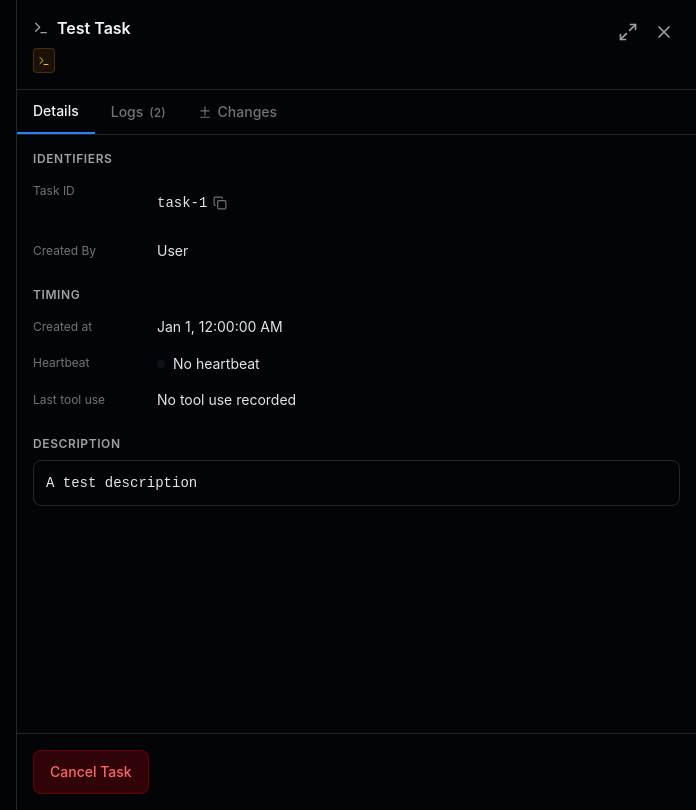
it: TaskDetailDrawer › log text filter removes non-matching lines from the DOM
Click the button "Logs(2)": (138, 112) [95, 90, 182, 134]
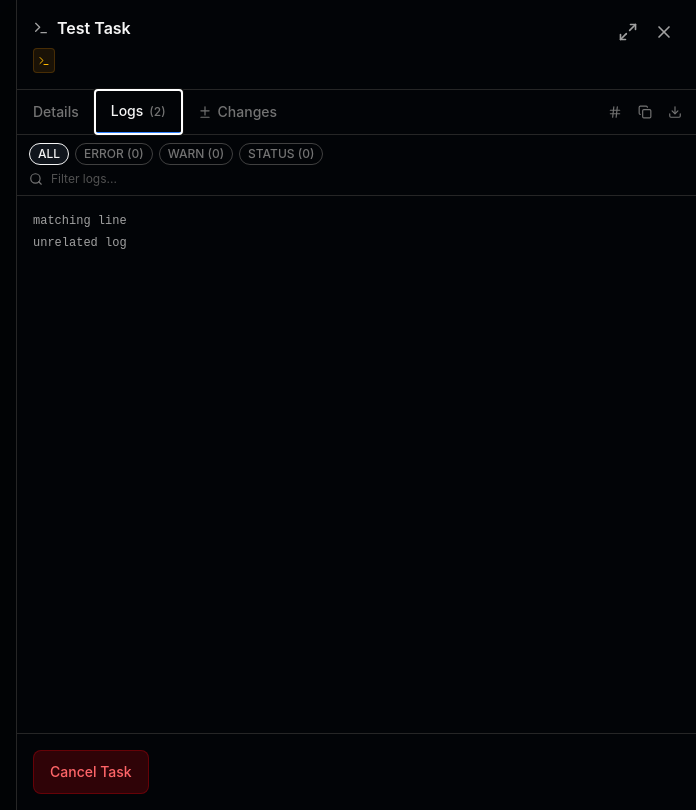
In the field with placeholder "Filter logs...": (368, 179) [51, 171, 684, 187], type "matching"
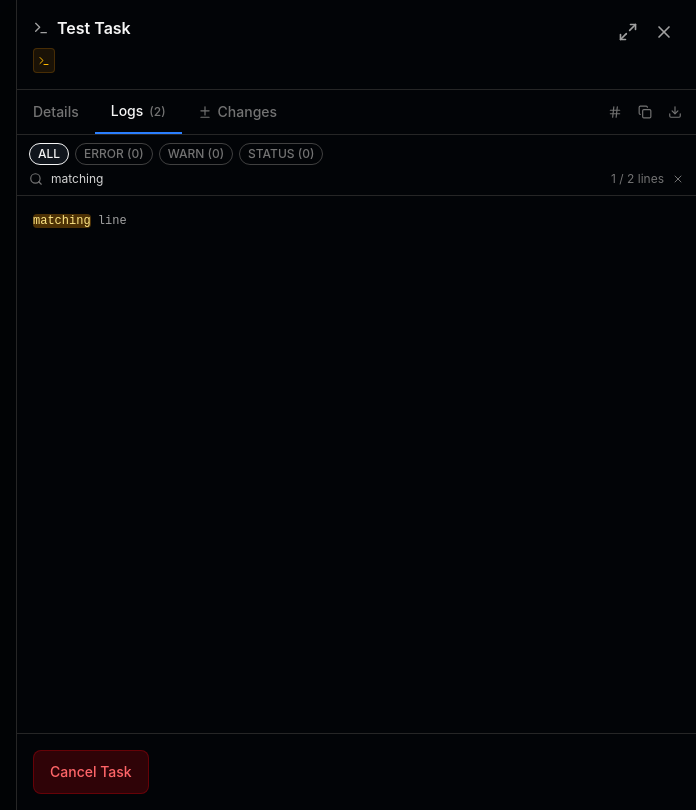
expect the text "unrelated log" is gone: met
expect the text "1 / 2 lines" is shown: met, box [611, 171, 664, 187]
